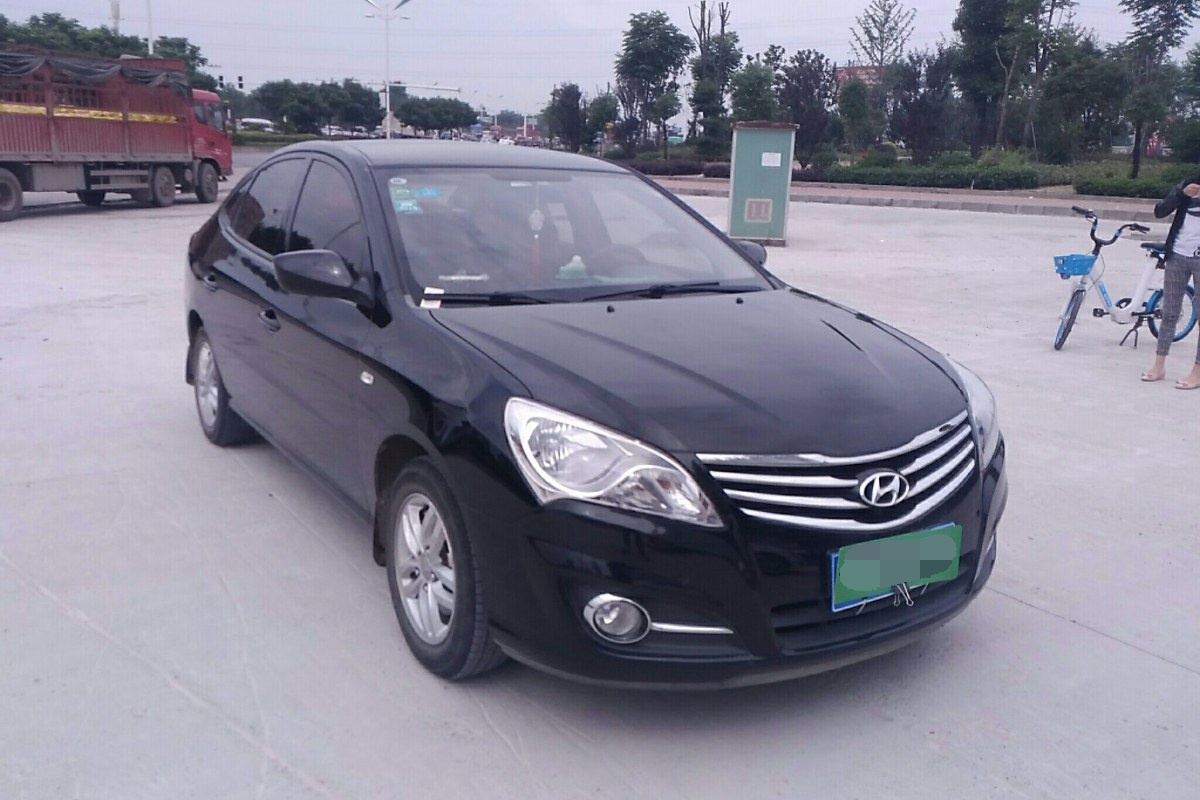family sedan: (168, 120, 1019, 731)
